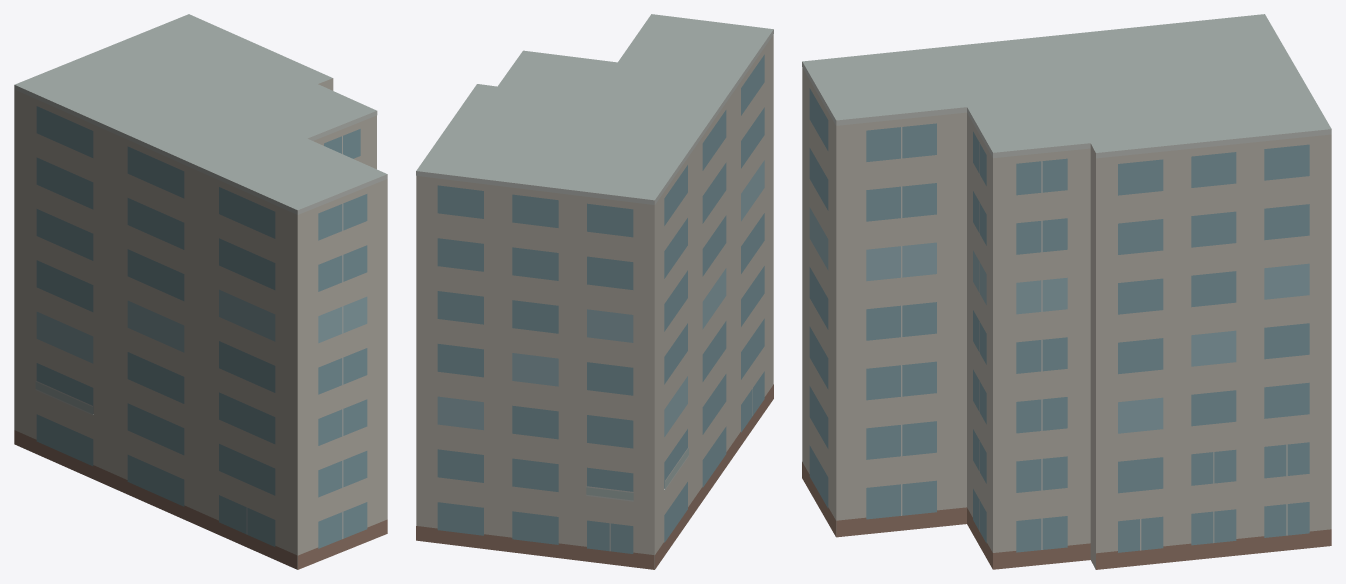
Rendered from survey-upis-32806730.glb.
The picture shows the model from 3 angles, left to right: view 1: azimuth 30°, elevation 25°; view 2: azimuth 150°, elevation 25°; view 3: azimuth 270°, elevation 25°; orthographic projection. The views are drawn at different scales.
Parts seen in each view (by area): view 1: survey-upis-32806730.tmp; view 2: survey-upis-32806730.tmp; view 3: survey-upis-32806730.tmp.
Boxes of the visible parts, x1,y1,x2,y2 form: survey-upis-32806730.tmp: (14, 14, 387, 569); survey-upis-32806730.tmp: (416, 14, 773, 569); survey-upis-32806730.tmp: (802, 14, 1331, 569).
Bounding box in the file's own units: 13.5 × 18.85 × 21.71.
